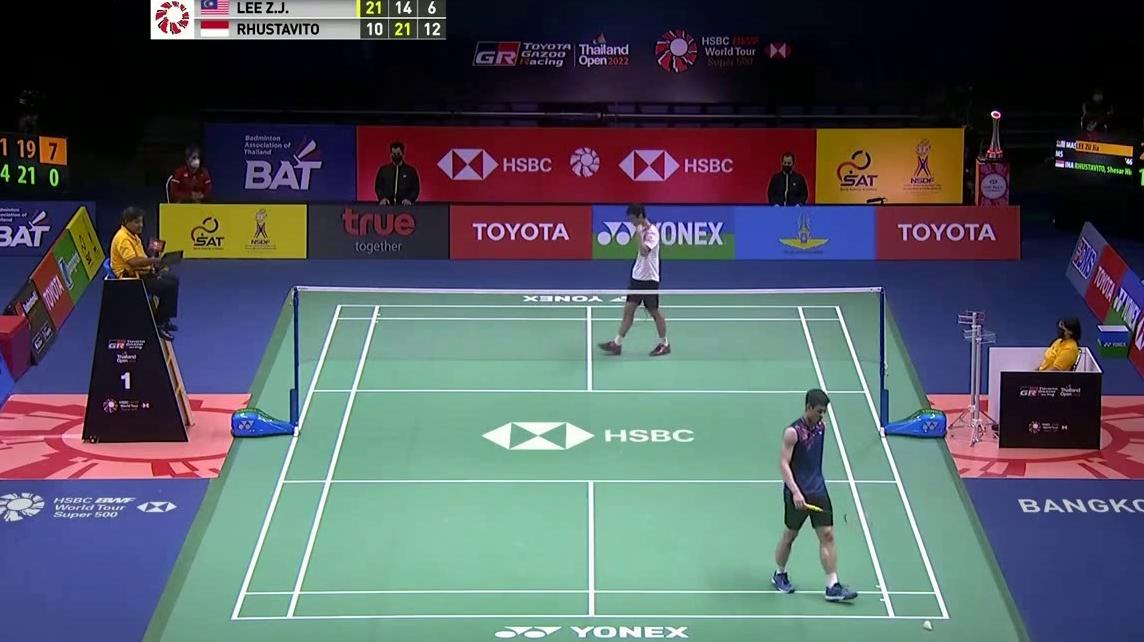racket: (797, 499, 876, 537), (629, 298, 656, 328)
shuttle: (921, 616, 936, 633)
